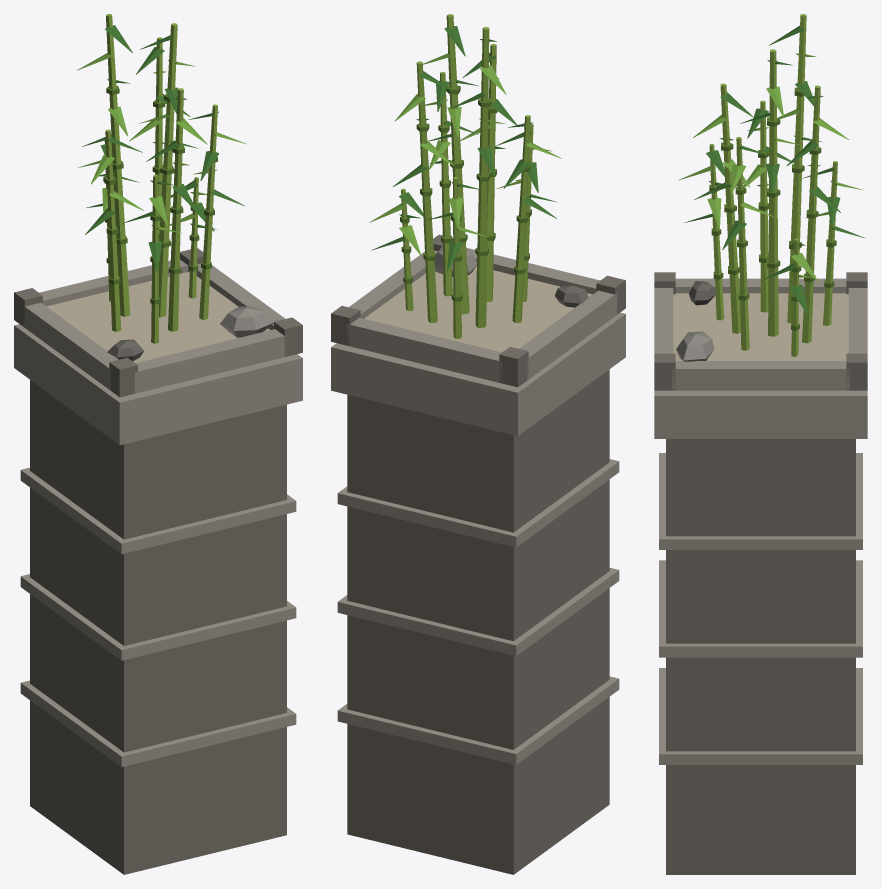
Rendered from decor_bamboo.glb.
3 views of the same model, side by side, from view 1: azimuth 30°, elevation 25°; view 2: azimuth 150°, elevation 25°; view 3: azimuth 270°, elevation 25° (orthographic). The views are drawn at different scales.
Parts seen in each view (by area): view 1: decor_bamboo; view 2: decor_bamboo; view 3: decor_bamboo.
Boxes of the visible parts, x1,y1,x2,y2 form: decor_bamboo: [14, 14, 302, 874]; decor_bamboo: [331, 14, 625, 874]; decor_bamboo: [654, 14, 867, 874].
Size of the model in its own units: 1.8 by 7.49 by 1.8.
